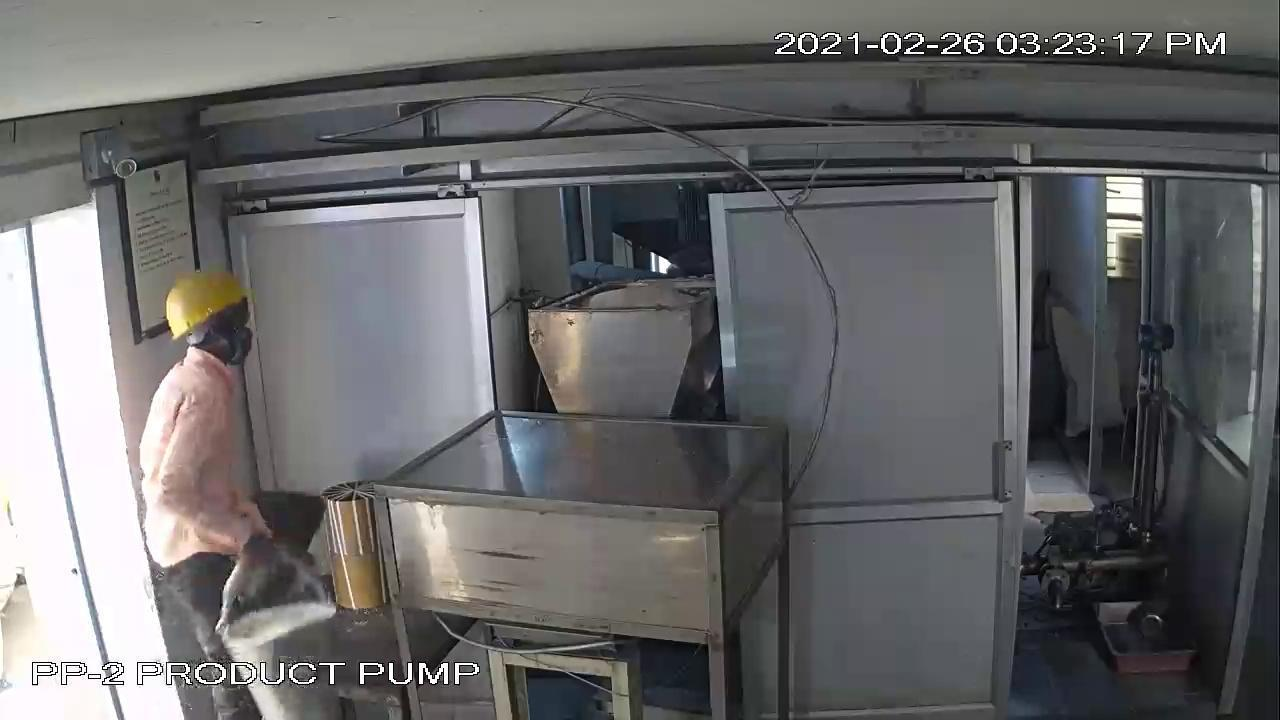helmet: (145, 259, 263, 331)
